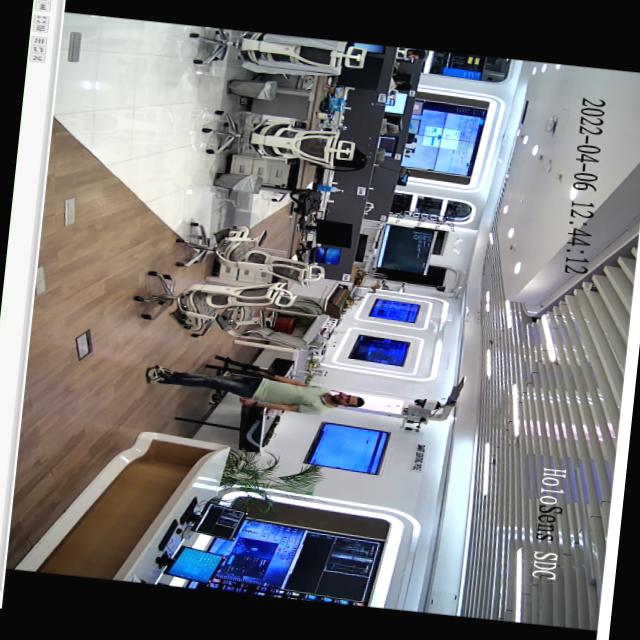long weapon: (204, 348, 284, 382)
